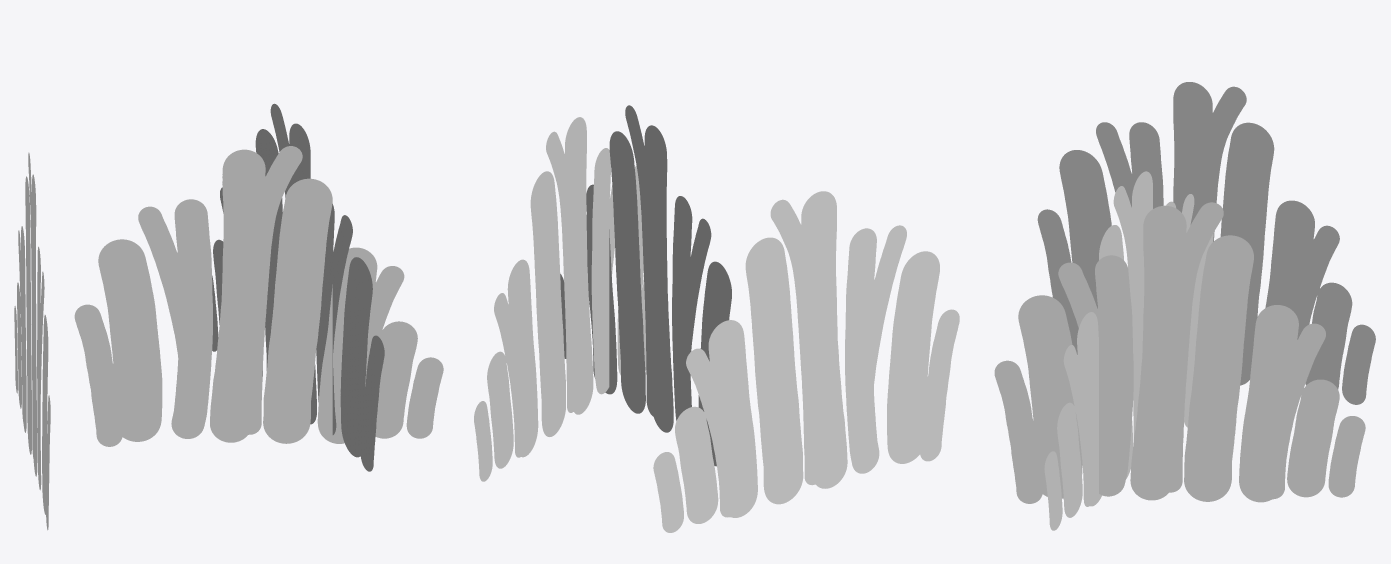
Rendered from GrassMesh.fbx.
3 renders of one model, left to right at view 1: azimuth 30°, elevation 25°; view 2: azimuth 150°, elevation 25°; view 3: azimuth 270°, elevation 25°, orthographic. The views are drawn at different scales.
Parts seen in each view (by area): view 1: Grasstest; view 2: Grasstest; view 3: Grasstest.
Part boxes in pixels (<box>): Grasstest: <box>14,103,443,530</box>; Grasstest: <box>474,105,959,532</box>; Grasstest: <box>994,82,1375,530</box>.
Size of the model in its own units: 48.27 by 39.21 by 40.27.
